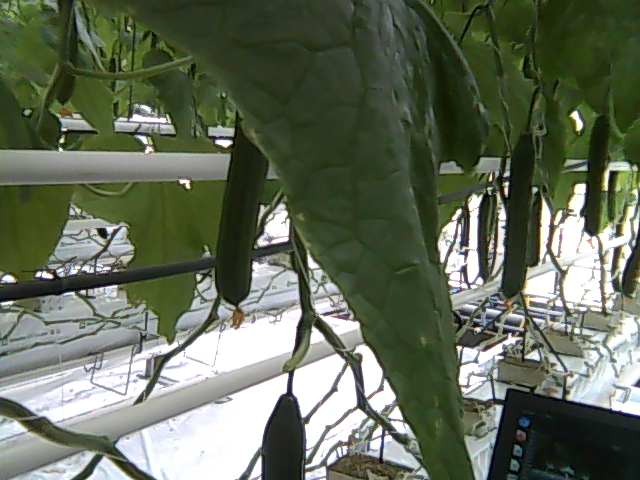concombre: (193, 108, 272, 331), (260, 380, 311, 480)
